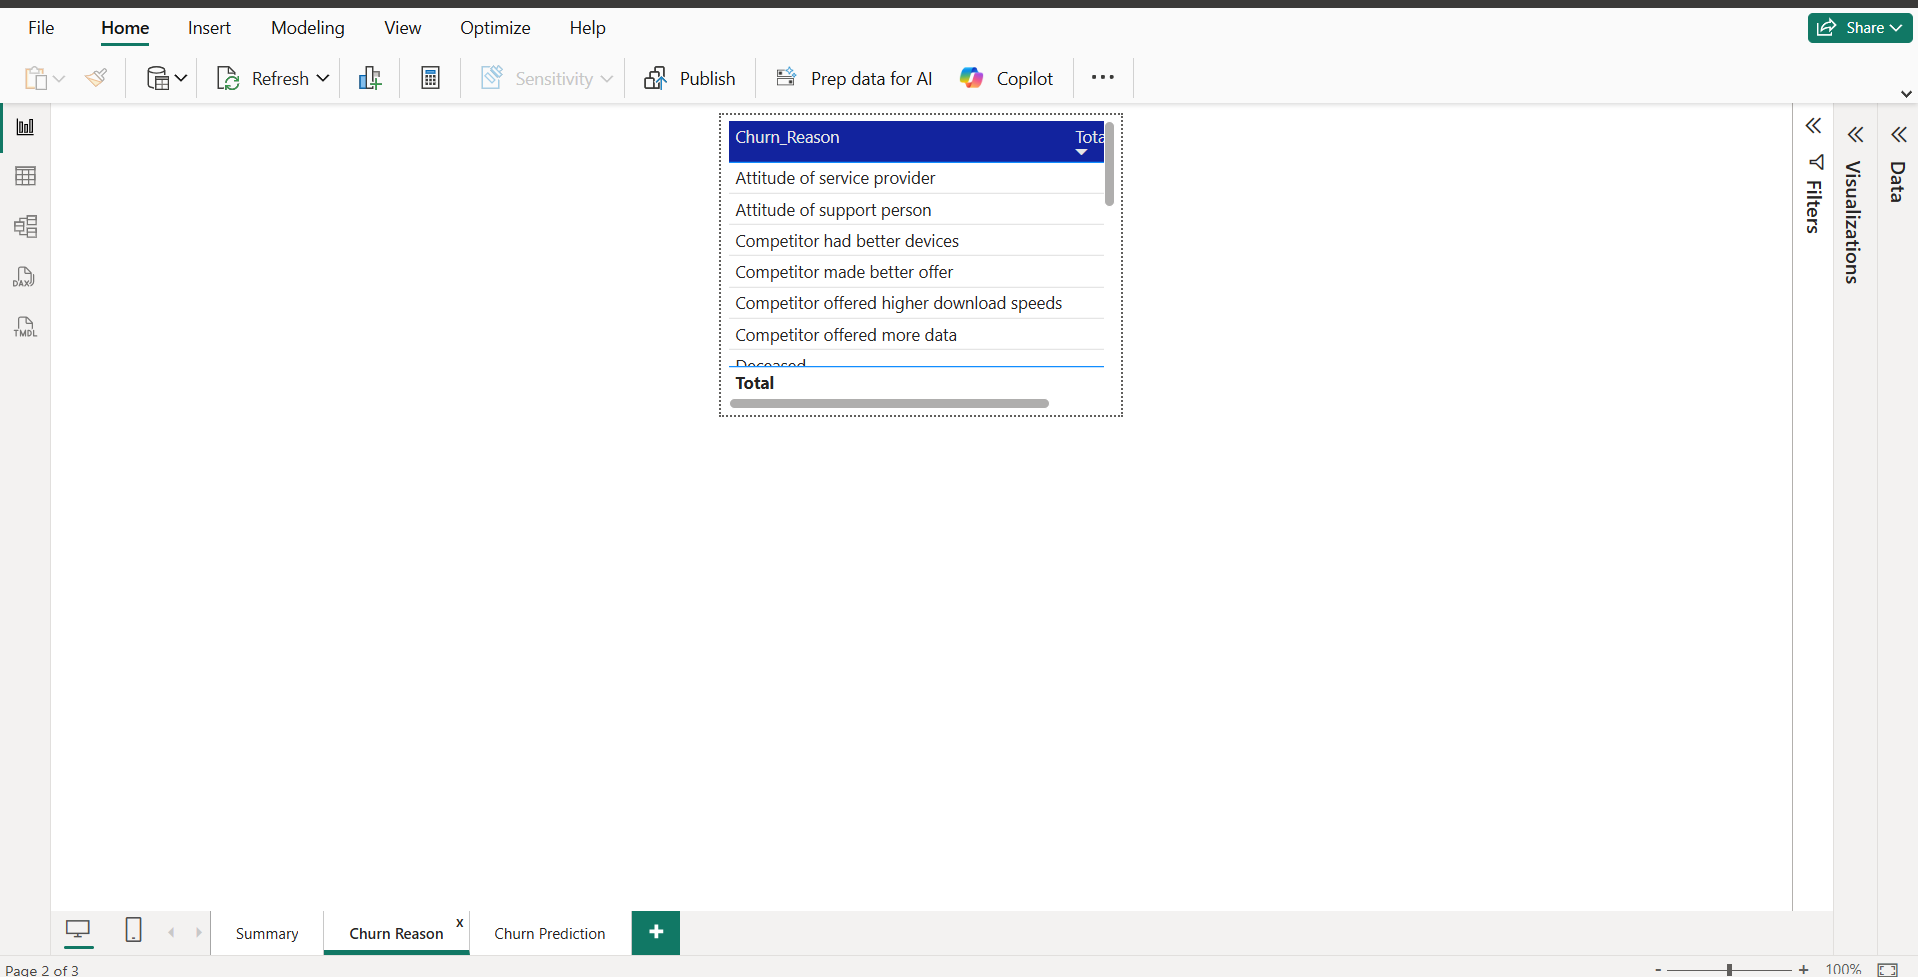

What the dashboard file says about the page in this screenshot:
{"tool":"powerbi","page":{"name":"Churn Reason","canvas":[320,240],"ordinal":1},"visuals":[{"type":"tableEx","fields":{"Values":["prod_Services.Churn_Reason","tbl_Measures.Total Churn"]},"box":[0,0,320,240],"z":0}]}

Visuals, with their boxes on the page's 320x240 design canvas (x1, y1, x2, y2). These are canvas units, not pixel positions in the 1918x977 screenshot, which may show the page scaled, cropped or inside an application window:
tableEx - prod_Services.Churn_Reason x tbl_Measures.Total Churn: bbox=[0, 0, 320, 240]
